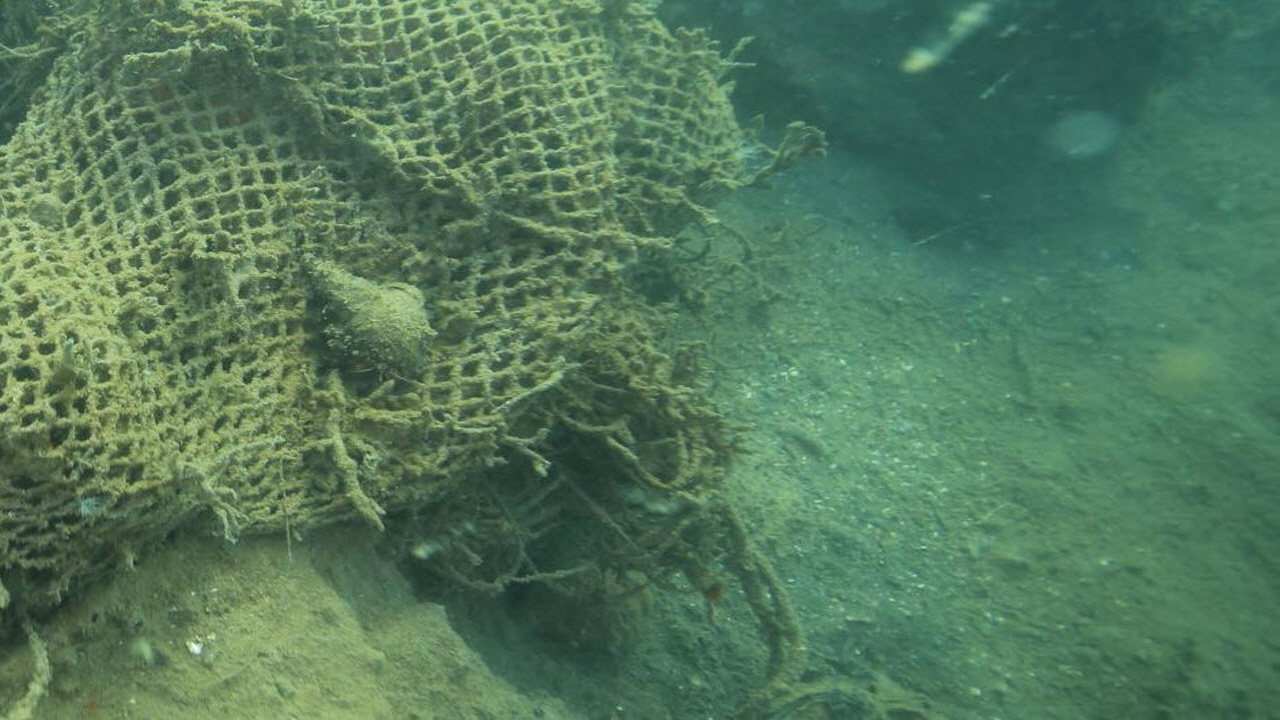fish net: (0, 0, 746, 569)
